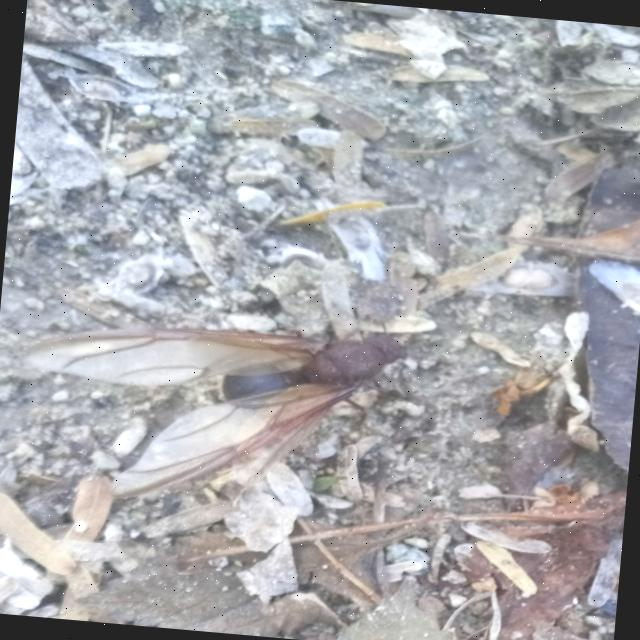Alive-Female-Alate: (9, 290, 460, 528)
